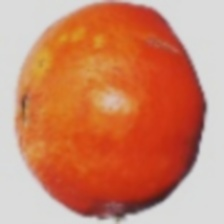tangerine: (0, 9, 199, 176)
